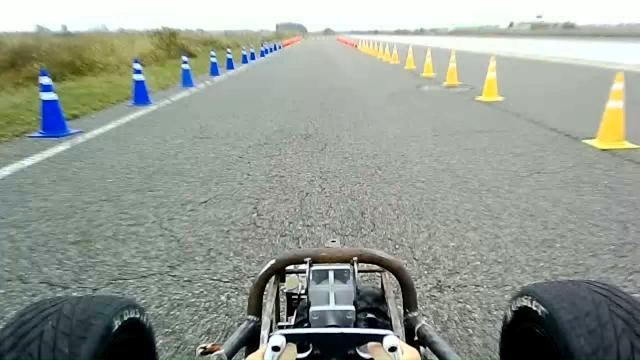blue cone: (25, 67, 83, 138), (128, 57, 152, 106), (179, 55, 195, 87), (208, 48, 220, 77), (225, 47, 235, 70), (240, 48, 248, 64), (249, 47, 256, 60)
yellow cone: (582, 71, 639, 150), (474, 55, 505, 102), (442, 50, 462, 86), (420, 47, 436, 77), (404, 44, 416, 70), (390, 44, 400, 64), (382, 44, 391, 62), (377, 42, 385, 60)
